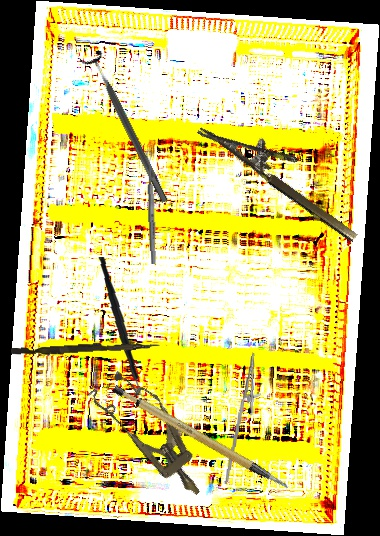Chopper: (88, 256, 162, 402)
Fixation Ring: (78, 48, 177, 208)
Needle Holder: (196, 101, 374, 245), (224, 350, 265, 487)
Pusher: (10, 337, 161, 359)
Scalpel Handle: (110, 363, 290, 515)
Speculum: (85, 361, 221, 511)
Surgical Spoon: (146, 151, 157, 265)
